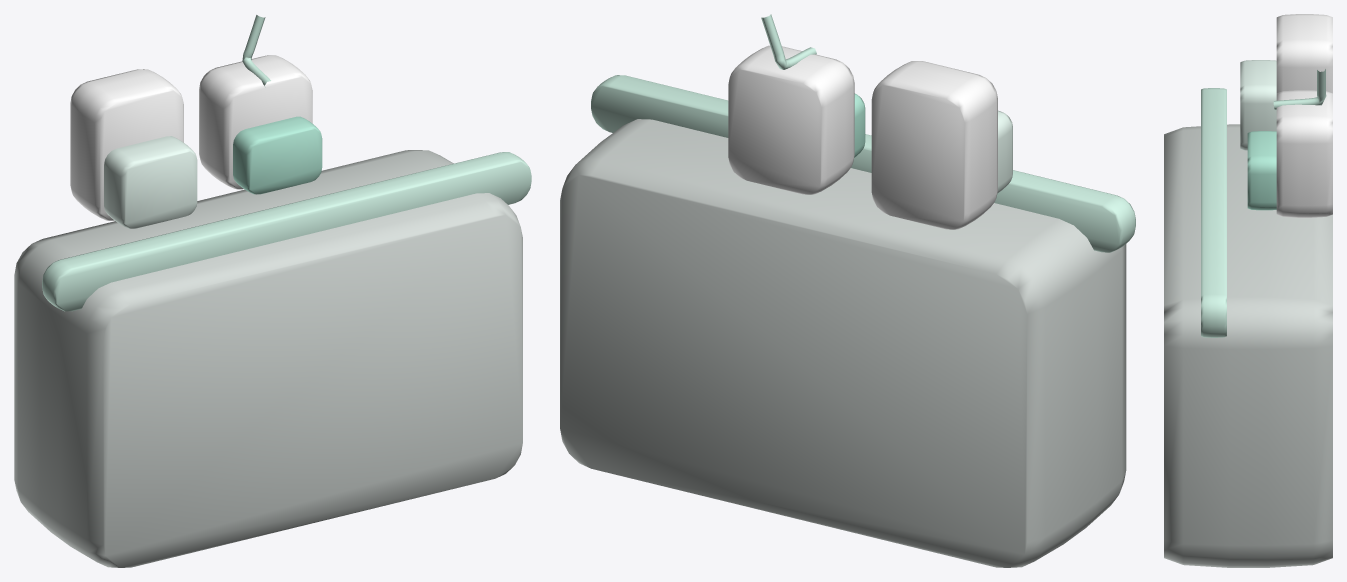
The model's file is decor_2_mint.glb.
3 views of the same model, side by side, from view 1: azimuth 30°, elevation 25°; view 2: azimuth 150°, elevation 25°; view 3: azimuth 270°, elevation 25° (orthographic). The views are drawn at different scales.
Visible parts, largest first — view 1: decor_2_mint; view 2: decor_2_mint; view 3: decor_2_mint.
Boxes of the visible parts, x1=… form: decor_2_mint: x1=14, y1=15, x2=531, y2=567; decor_2_mint: x1=560, y1=14, x2=1135, y2=567; decor_2_mint: x1=1164, y1=14, x2=1332, y2=567.
Bounding box in the file's own units: 17.1 × 15.36 × 5.51.
